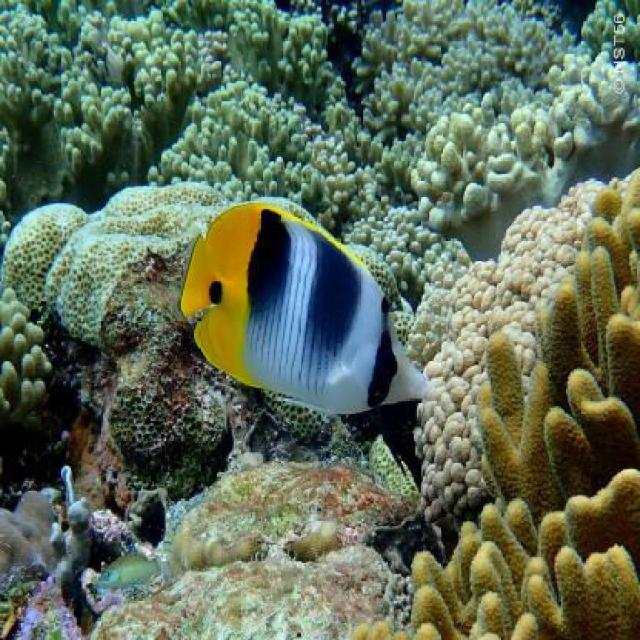ButterflyFish: (185, 202, 436, 415)
